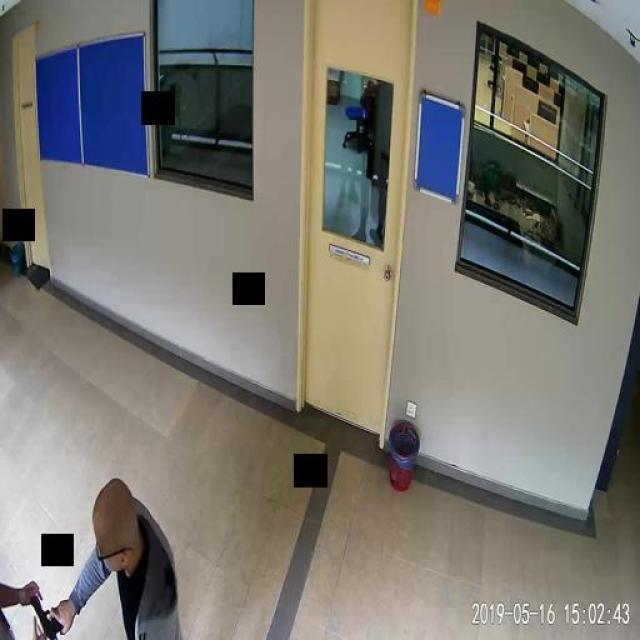gun: (28, 592, 62, 638)
